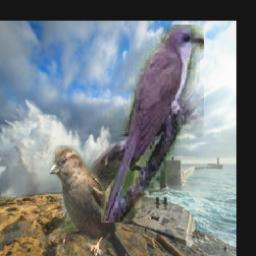Cuckoo: (102, 26, 205, 224)
Sparrow: (49, 146, 135, 256)
